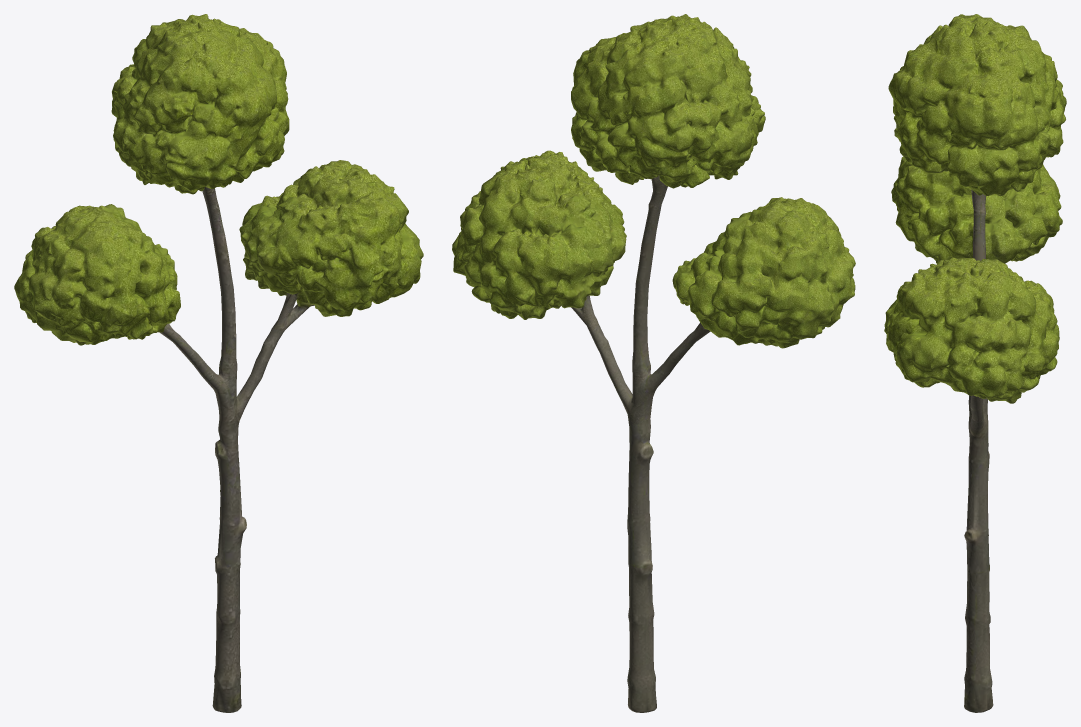
File: fresno_joven.glb
3 views of the same model, side by side, from view 1: azimuth 30°, elevation 25°; view 2: azimuth 150°, elevation 25°; view 3: azimuth 270°, elevation 25° (orthographic). The views are drawn at different scales.
Parts seen in each view (by area): view 1: aligerado; view 2: aligerado; view 3: aligerado.
Boxes of the visible parts, box(x1,y1,x2,y2) form: aligerado: box(14, 14, 423, 712); aligerado: box(452, 14, 855, 712); aligerado: box(884, 14, 1066, 712).
Size of the model in its own units: 2.31 by 4 by 0.9848.
Materials: 1 (1 with a texture image).
